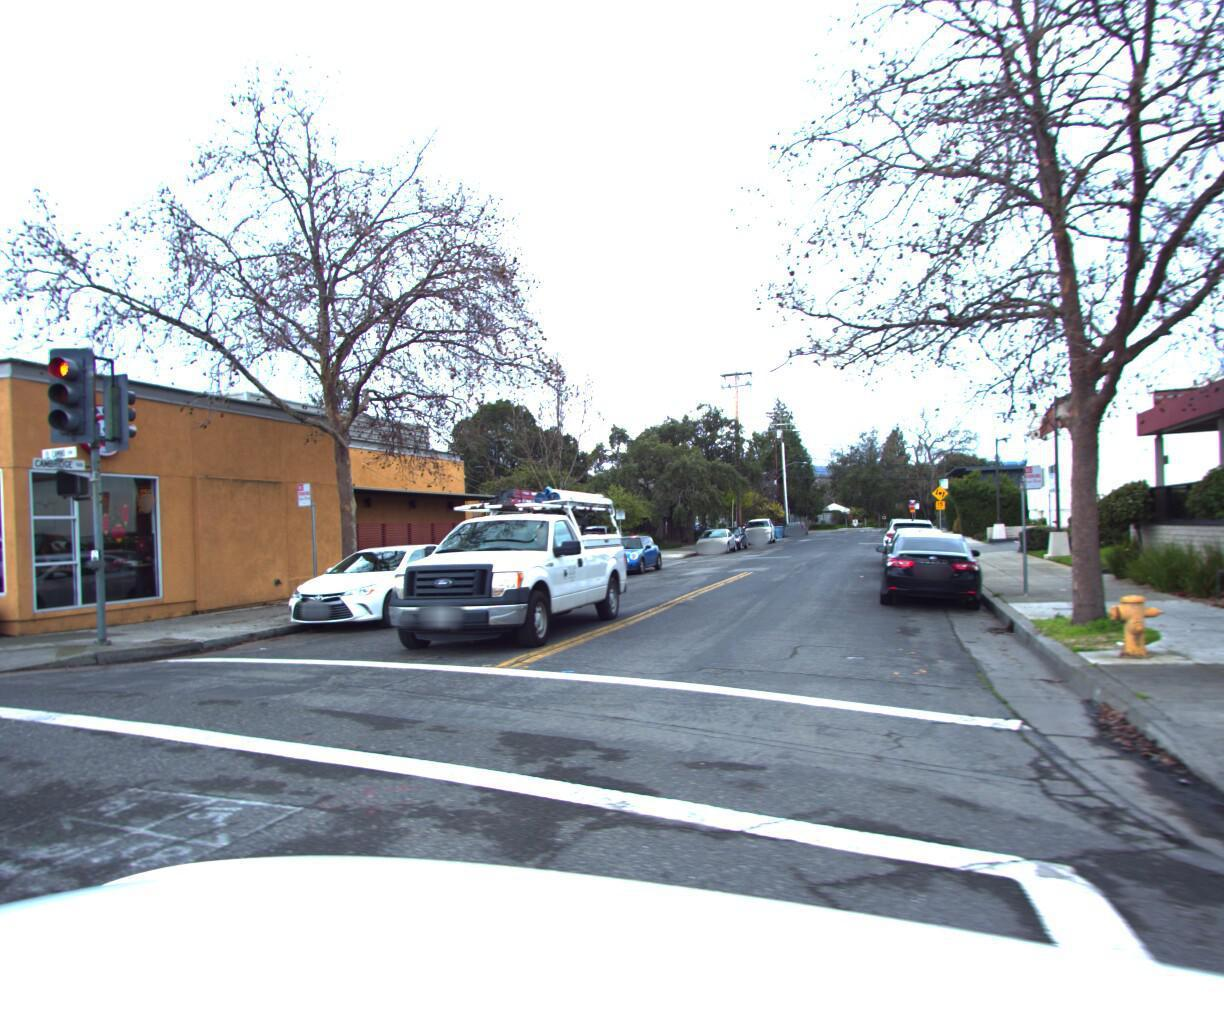car: (341, 475, 648, 678), (262, 536, 489, 633), (881, 522, 989, 614), (881, 520, 955, 580), (589, 529, 662, 573), (882, 511, 941, 564), (577, 518, 629, 549), (688, 521, 740, 552), (741, 513, 775, 538), (713, 524, 749, 546), (764, 519, 787, 535)
